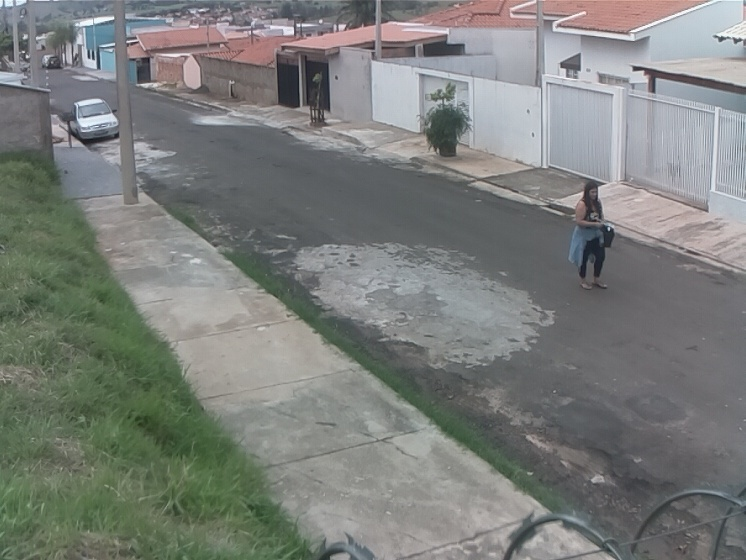person: (570, 179, 618, 294)
